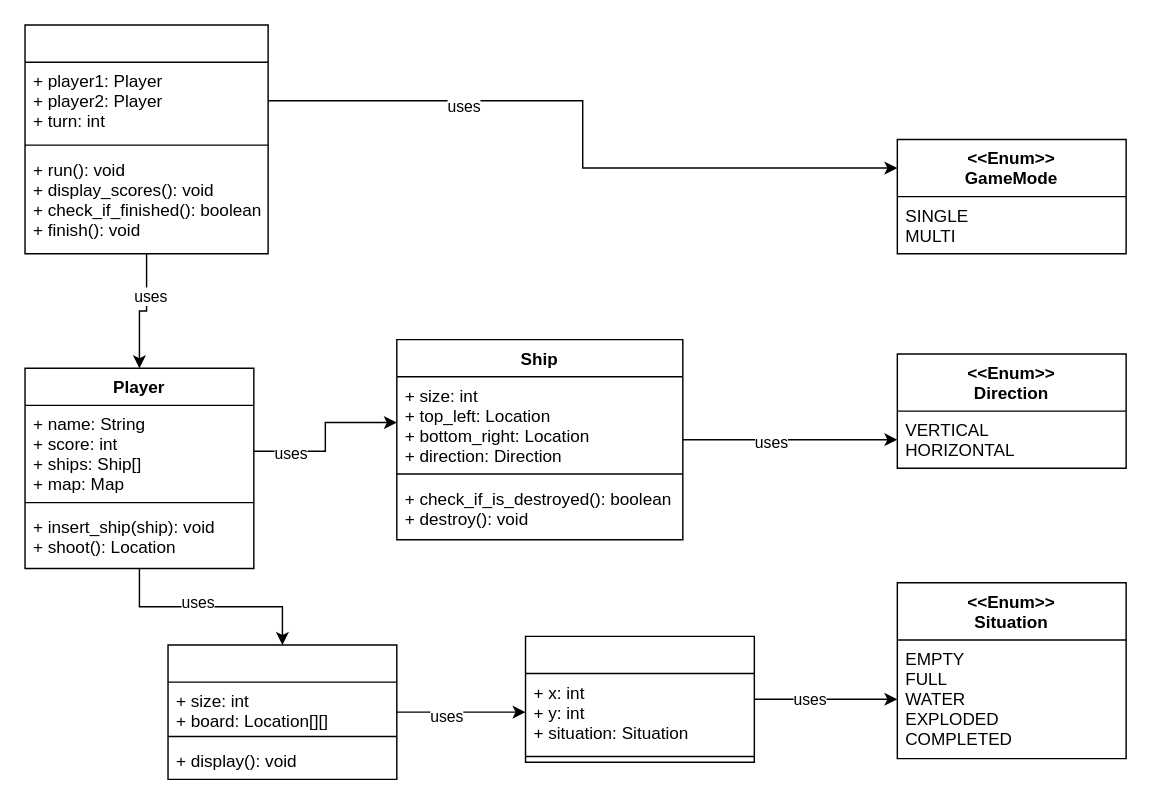
The diagram is 1151 pixels wide and 808 high, and some of its shapes have lost their labels. Here are the shapes that lost their labels. From the top down, the box of each, then its label:
(24, 24, 268, 254): Game
(167, 644, 397, 779): Map
(524, 635, 754, 762): Location
